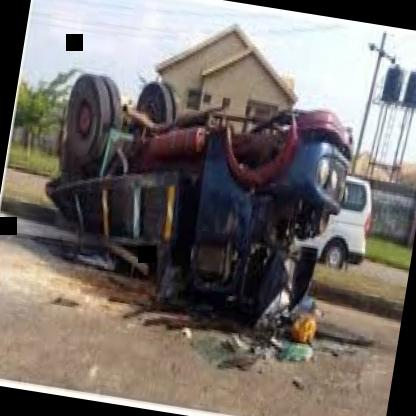accident: (12, 50, 404, 362)
